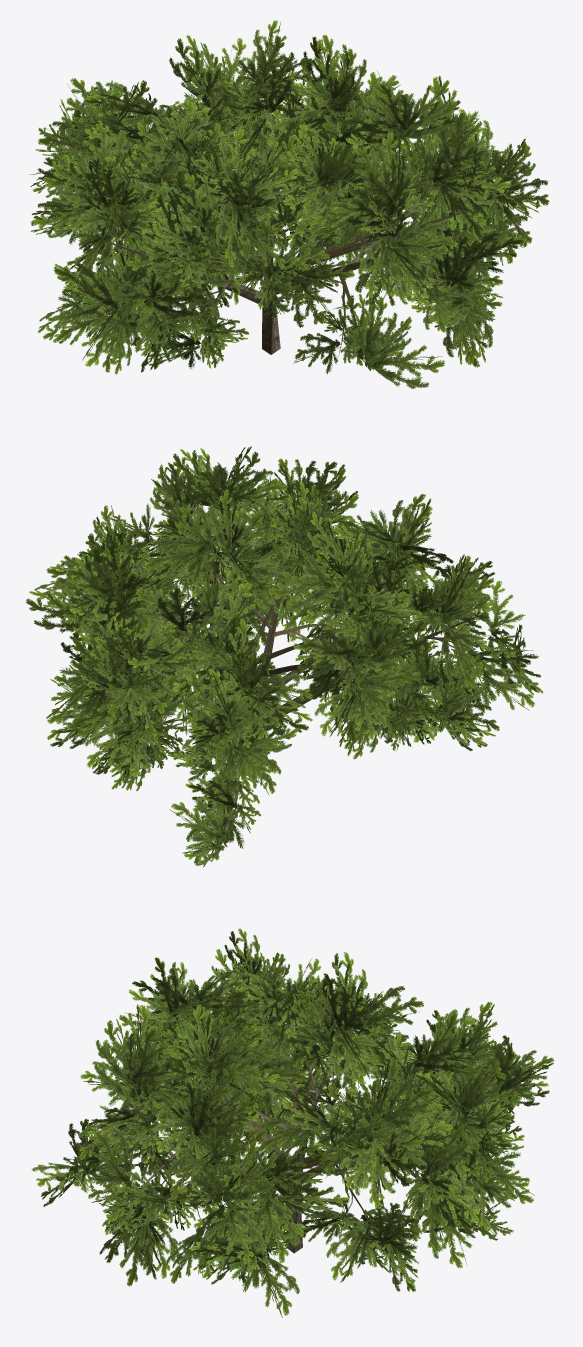
The model's file is baum_nadelbusch_1_lod0.glb.
The picture shows the model from 3 angles, top to bottom: view 1: azimuth 30°, elevation 25°; view 2: azimuth 150°, elevation 25°; view 3: azimuth 270°, elevation 25°; orthographic projection. The views are drawn at different scales.
Parts seen in each view (by area): view 1: Krone, Stamm; view 2: Krone, Stamm; view 3: Krone, Stamm.
Boxes of the visible parts, bbox=[...] form: Krone: bbox=[30, 20, 549, 388]; Stamm: bbox=[82, 33, 495, 357]; Krone: bbox=[25, 446, 543, 867]; Stamm: bbox=[108, 514, 498, 839]; Krone: bbox=[31, 928, 554, 1317]; Stamm: bbox=[84, 975, 481, 1266].
Bounding box in the file's own units: 5.03 × 3.2 × 4.78.
2 materials, 2 textured.
